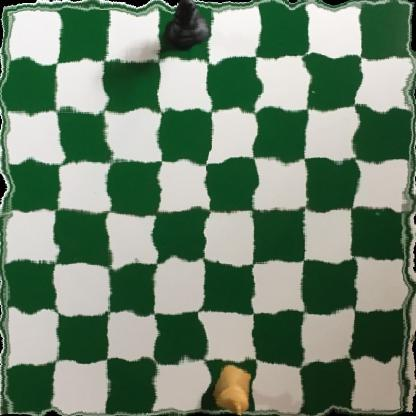black-king: (165, 0, 208, 56)
white-king: (209, 361, 252, 416)
